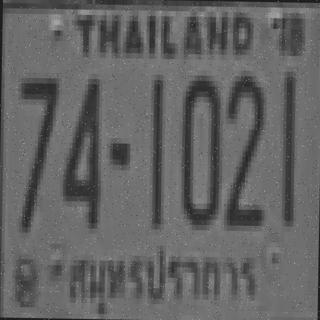N00: (178, 70, 221, 225)
N01: (148, 75, 164, 224), (280, 69, 294, 224), (280, 74, 294, 224)
N02: (224, 70, 264, 226)
N04: (60, 73, 100, 223)
N07: (16, 72, 56, 228)
P57: (60, 242, 260, 317)
